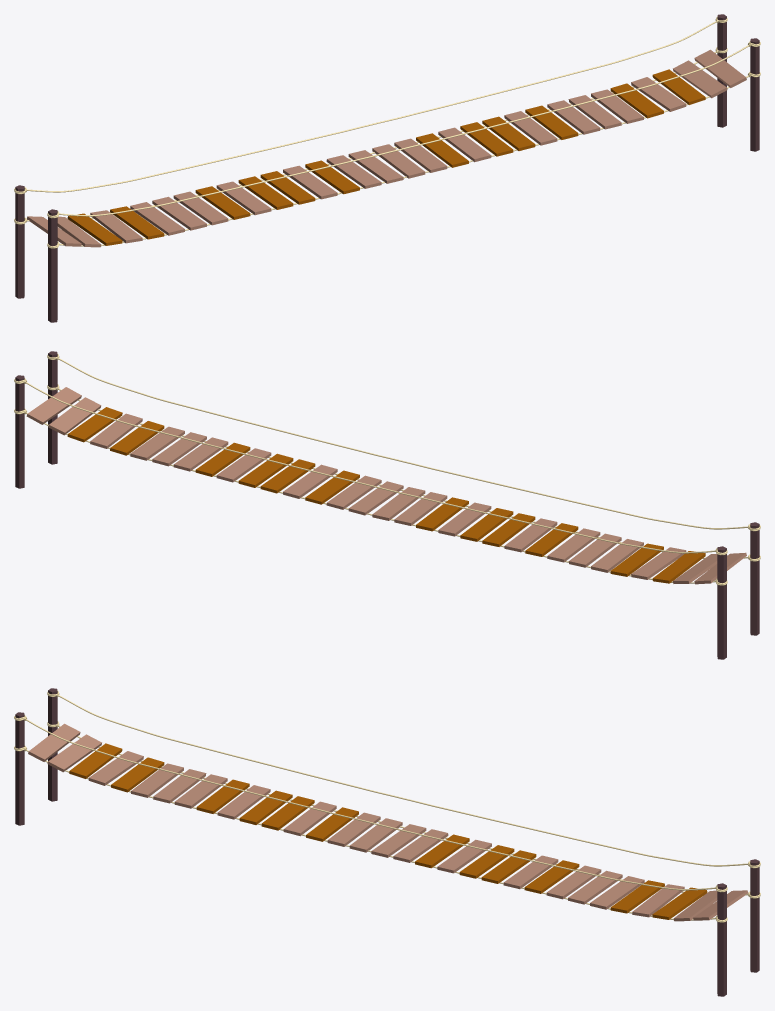
The model's file is bridge.fbx.
3 views of the same model, one above another, from view 1: azimuth 30°, elevation 25°; view 2: azimuth 150°, elevation 25°; view 3: azimuth 330°, elevation 25° (orthographic).
Visible parts, largest first — view 1: Cylinder.028, BezierCurve, Cube.011, Cube.014, Cube.015, Cube.013, Cube.018, Cube.010, Cube.012, Cube.007, Cube.003, Cube.008 (+7 smaller); view 2: Cylinder.028, BezierCurve, Cube.014, Cube.010, Cube.013, Cube.018, Cube.011, Cube.012, Cube.015, Cube.008, Cube.006, Cube.009 (+7 smaller); view 3: Cylinder.028, BezierCurve, Cube.011, Cube.014, Cube.015, Cube.013, Cube.018, Cube.010, Cube.012, Cube.007, Cube.003, Cube.008 (+7 smaller).
Part boxes in pixels (left/top/right/bottom): Cylinder.028: left=15, top=14, right=759, bottom=322; BezierCurve: left=14, top=16, right=760, bottom=218; Cube.011: left=195, top=105, right=578, bottom=219; Cube.014: left=260, top=122, right=513, bottom=204; Cube.015: left=283, top=127, right=491, bottom=199; Cube.013: left=238, top=116, right=535, bottom=209; Cube.018: left=348, top=144, right=425, bottom=183; Cube.010: left=173, top=100, right=600, bottom=225; Cube.012: left=216, top=111, right=557, bottom=215; Cube.007: left=90, top=77, right=686, bottom=243; Cube.003: left=152, top=95, right=621, bottom=230; Cube.008: left=110, top=83, right=663, bottom=239; Cylinder.028: left=15, top=351, right=759, bottom=659; BezierCurve: left=14, top=353, right=760, bottom=555; Cube.014: left=260, top=459, right=513, bottom=541; Cube.010: left=173, top=437, right=600, bottom=562; Cube.013: left=238, top=453, right=535, bottom=546; Cube.018: left=348, top=481, right=425, bottom=520; Cube.011: left=195, top=442, right=578, bottom=556; Cube.012: left=216, top=448, right=557, bottom=552; Cube.015: left=283, top=464, right=491, bottom=536; Cube.008: left=110, top=421, right=663, bottom=576; Cube.006: left=67, top=407, right=705, bottom=583; Cube.009: left=130, top=426, right=643, bottom=572; Cylinder.028: left=15, top=688, right=759, bottom=996; BezierCurve: left=14, top=690, right=760, bottom=892; Cube.011: left=196, top=779, right=579, bottom=893; Cube.014: left=261, top=796, right=514, bottom=878; Cube.015: left=283, top=801, right=491, bottom=873; Cube.013: left=239, top=790, right=536, bottom=883; Cube.018: left=349, top=818, right=426, bottom=857; Cube.010: left=174, top=774, right=601, bottom=899; Cube.012: left=217, top=785, right=558, bottom=889; Cube.007: left=88, top=751, right=684, bottom=917; Cube.003: left=153, top=769, right=622, bottom=904; Cube.008: left=111, top=757, right=664, bottom=913.
Bounding box in the file's own units: 4487 × 659 × 427.
